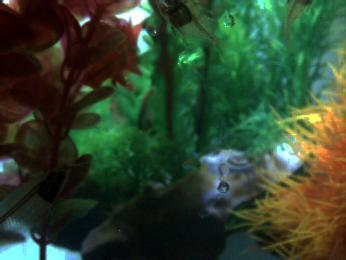X-ray fish: (154, 1, 233, 61), (277, 1, 313, 48)
glassfish: (1, 162, 76, 240)
